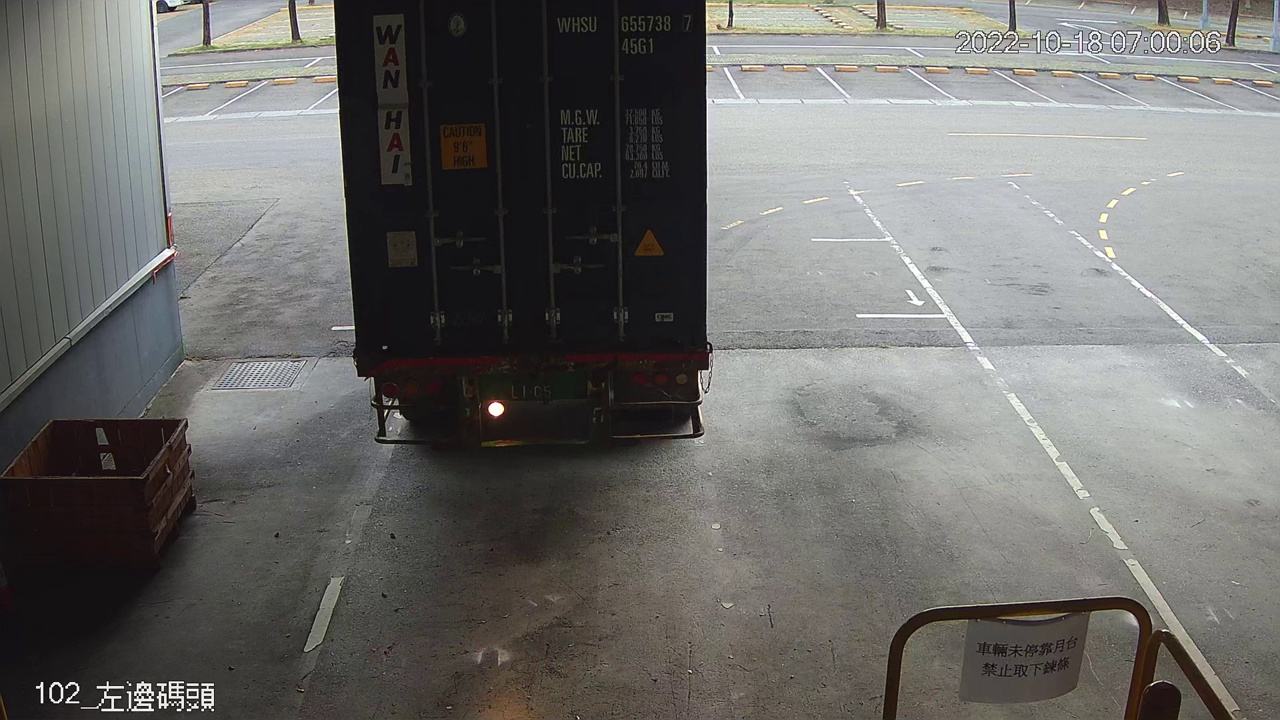container: (552, 8, 698, 61)
